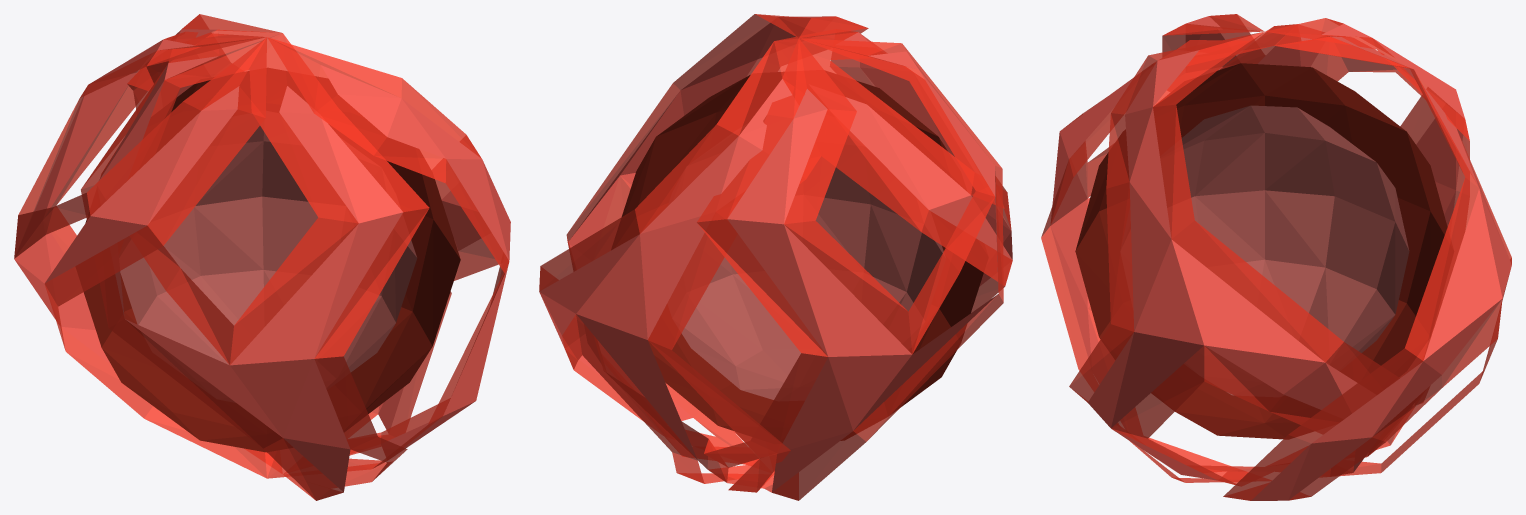
Rendered from mage_projectile.glb.
The picture shows the model from 3 angles, left to right: view 1: azimuth 30°, elevation 25°; view 2: azimuth 150°, elevation 25°; view 3: azimuth 270°, elevation 25°; orthographic projection.
Bounding box in the file's own units: 104 × 104 × 101.
2 materials, 2 textured.
